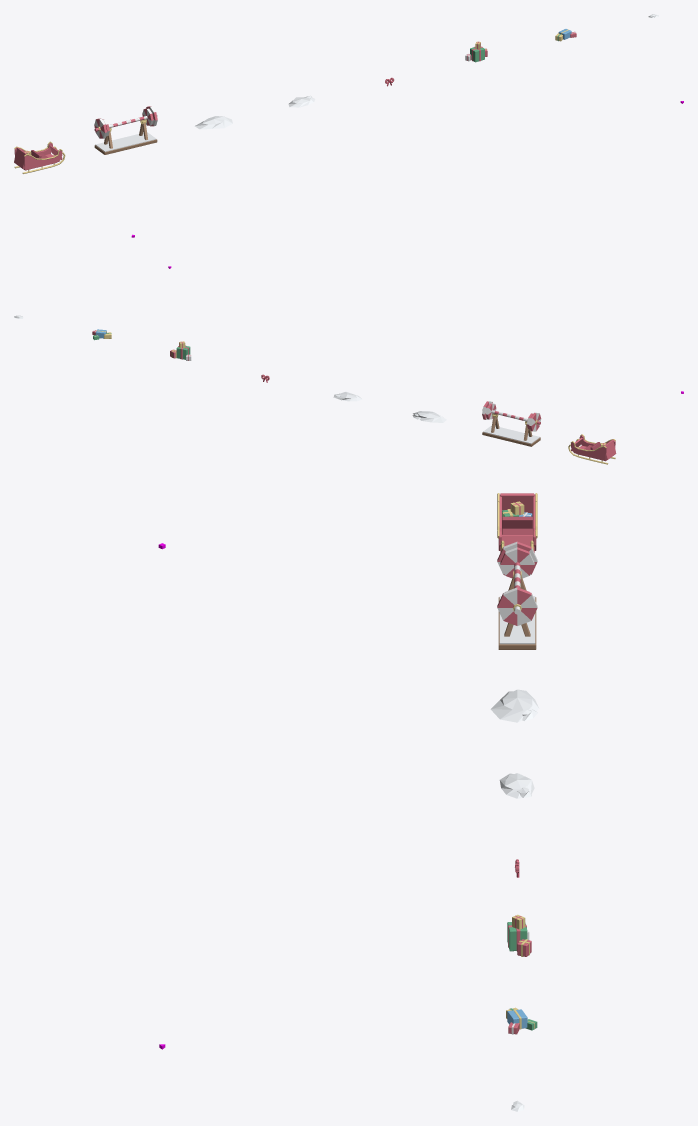
Rendered from YardKit2.glb.
3 views of the same model, one above another, from view 1: azimuth 30°, elevation 25°; view 2: azimuth 150°, elevation 25°; view 3: azimuth 270°, elevation 25° (orthographic). The views are drawn at different scales.
Visible parts, largest first — view 1: Sleigh2_Red, BarbellDisplay_Snow, BarbellDisplay_White, DriftA_Snow, BarbellDisplay_Red; view 2: Sleigh2_Red, BarbellDisplay_Snow, BarbellDisplay_Red, BarbellDisplay_White; view 3: BarbellDisplay_White, BarbellDisplay_Red, Sleigh2_Red, DriftA_Snow.
Boxes of the visible parts, <box> form: Sleigh2_Red: <box>14,142,62,170</box>; BarbellDisplay_Snow: <box>95,132,156,151</box>; BarbellDisplay_White: <box>94,106,157,138</box>; DriftA_Snow: <box>195,116,232,129</box>; BarbellDisplay_Red: <box>94,106,157,138</box>; Sleigh2_Red: <box>571,435,616,461</box>; BarbellDisplay_Snow: <box>483,425,540,443</box>; BarbellDisplay_Red: <box>482,401,541,431</box>; BarbellDisplay_White: <box>482,401,541,431</box>; BarbellDisplay_White: <box>497,542,537,625</box>; BarbellDisplay_Red: <box>497,541,537,625</box>; Sleigh2_Red: <box>498,493,536,552</box>; DriftA_Snow: <box>490,689,539,722</box>.
Bounding box in the file's own units: 117 × 6.54 × 32.15.
